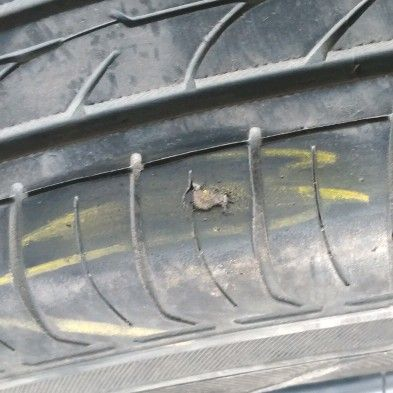tr: (180, 178, 236, 216)
